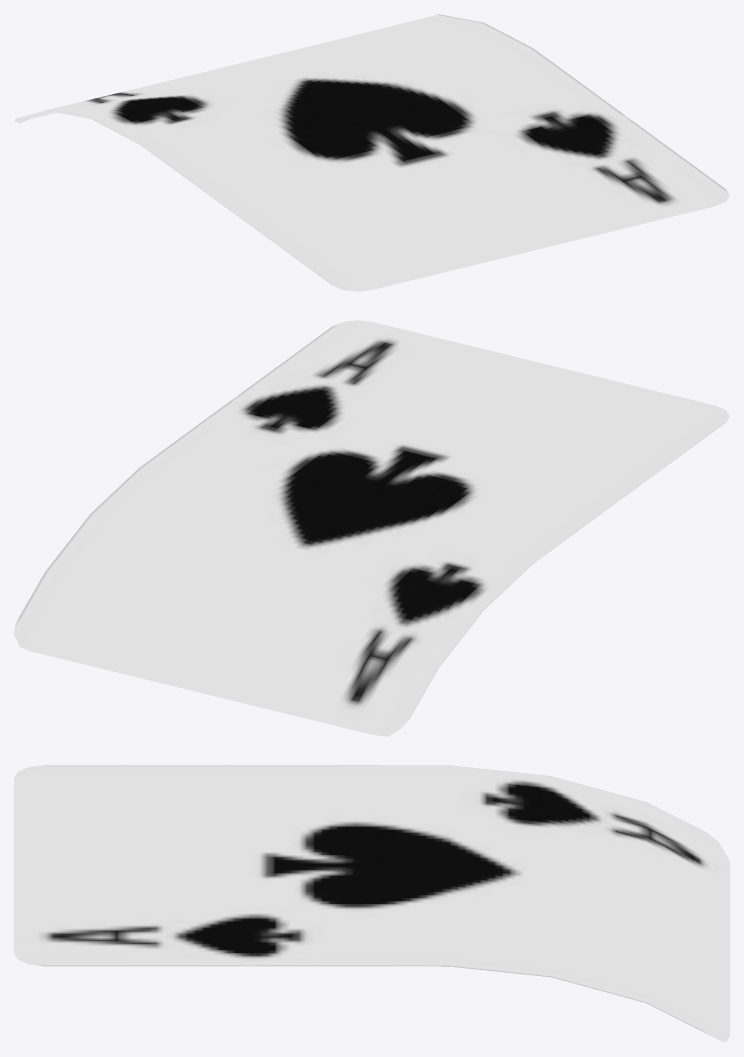
The model's file is card.fbx.
3 renders of one model, top to bottom at view 1: azimuth 30°, elevation 25°; view 2: azimuth 150°, elevation 25°; view 3: azimuth 270°, elevation 25°, orthographic. The views are drawn at different scales.
Parts seen in each view (by area): view 1: Plane; view 2: Plane; view 3: Plane.
Boxes of the visible parts, x1,y1,x2,y2 form: Plane: (14, 14, 729, 291); Plane: (14, 320, 729, 736); Plane: (14, 765, 729, 1042).
Size of the model in its own units: 11.05 by 2.13 by 16.62.
1 material, 1 textured.
